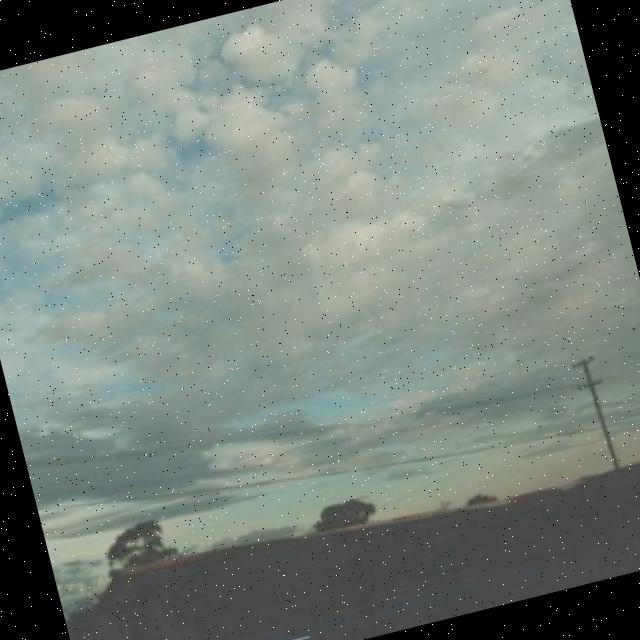Ci: (1, 1, 640, 456)
